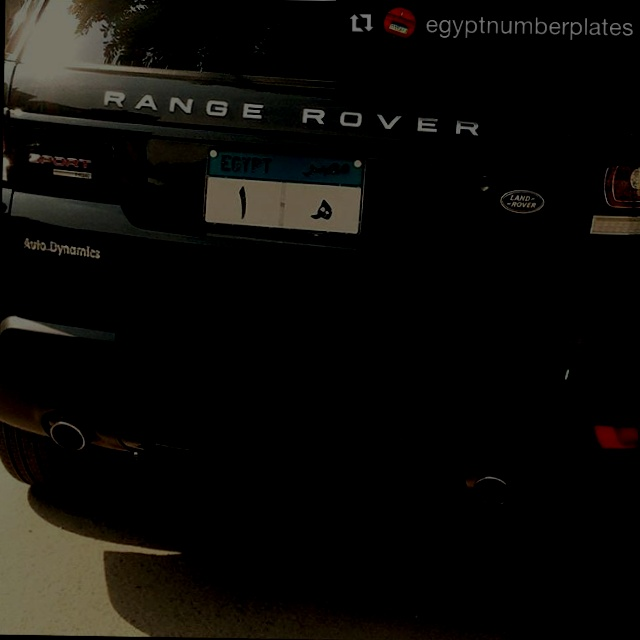License Plate: (199, 143, 369, 241)
